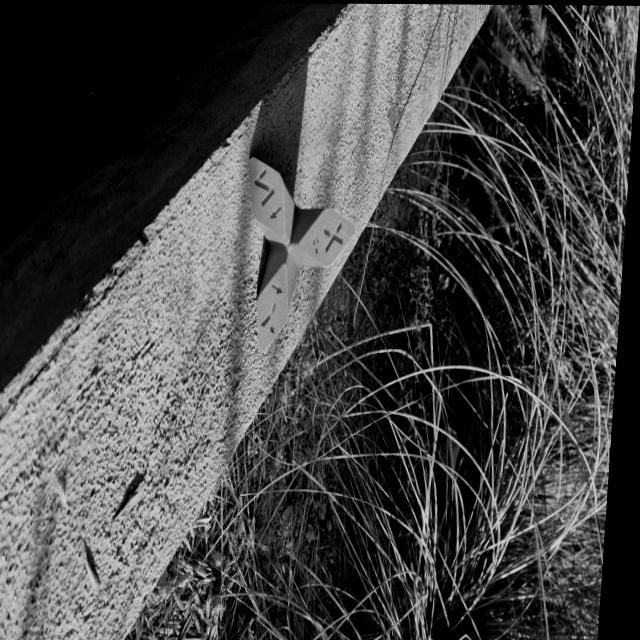eje: (234, 151, 362, 354)
